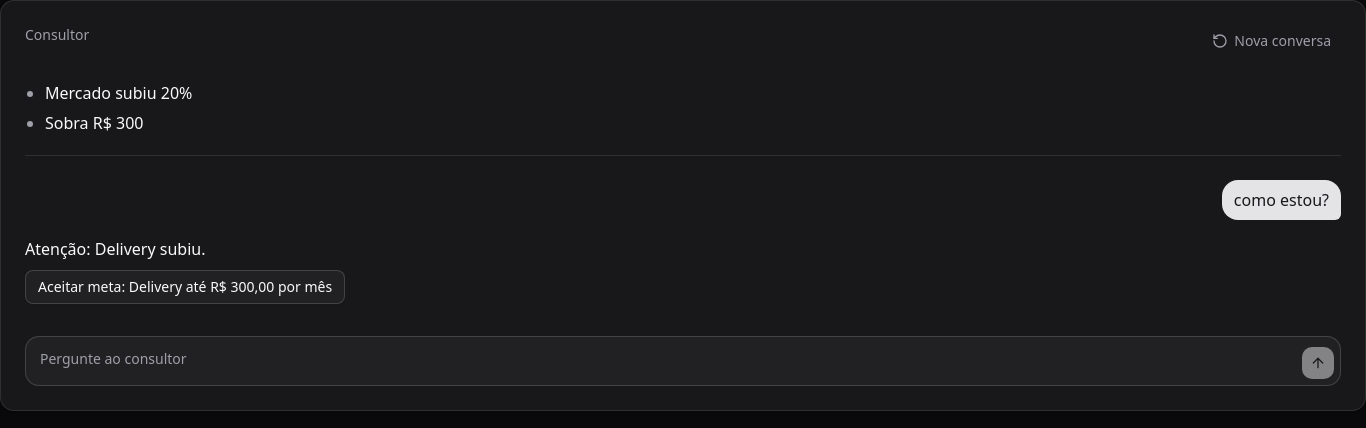
Test: AdvisorCard › Nova conversa apaga a conversa
Click the button "Nova conversa" at [1272, 41], box [1202, 25, 1341, 57]
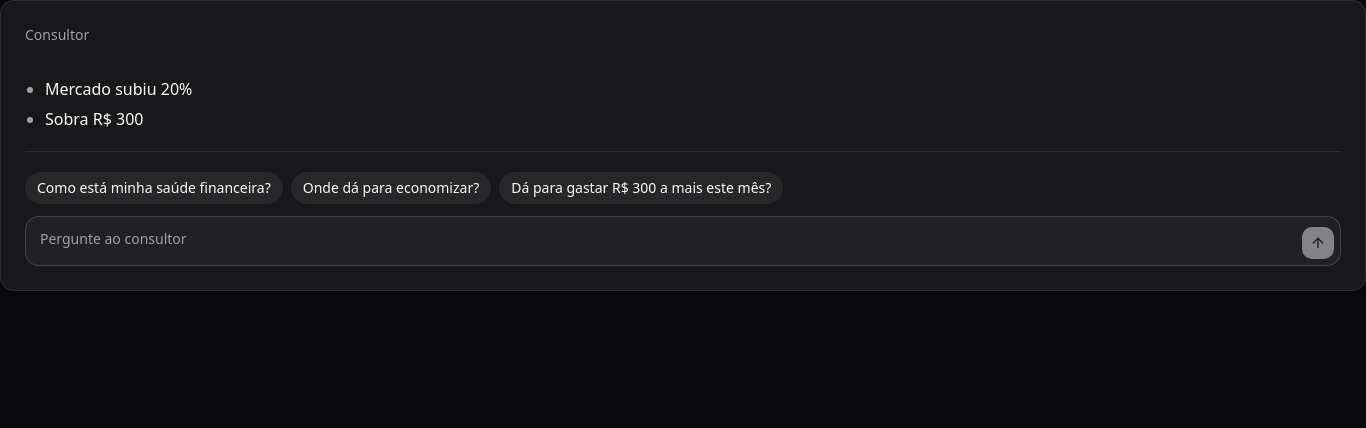
Expected: the text "como estou?" is gone
